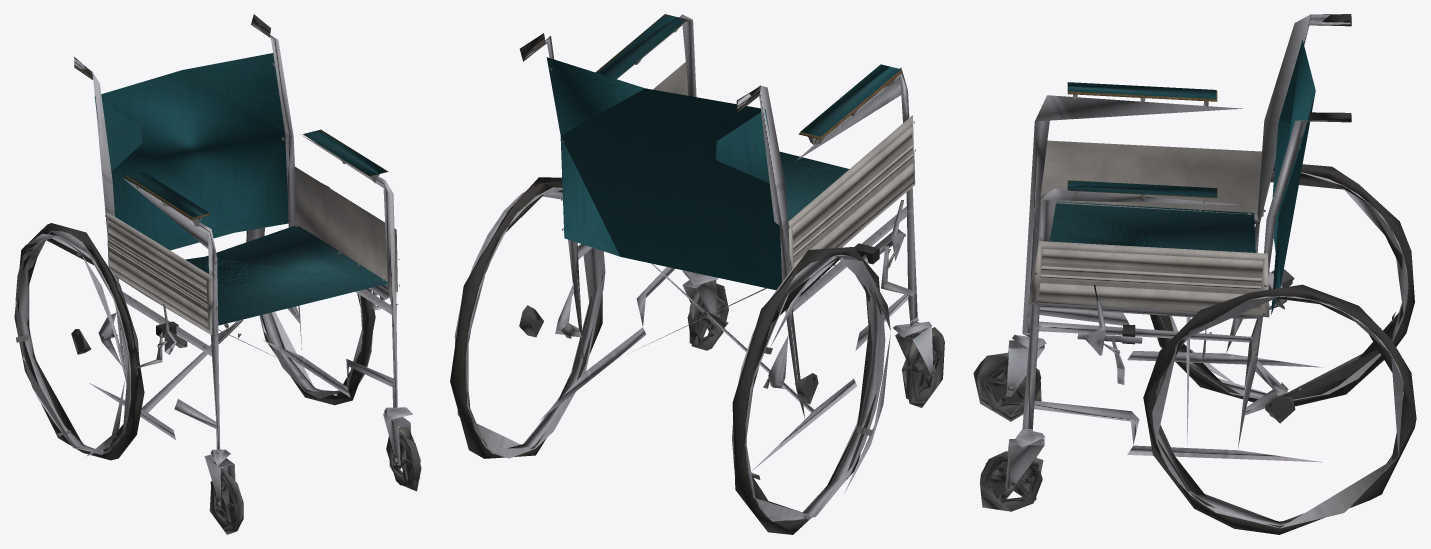
Rendered from wheelchair.glb.
The picture shows the model from 3 angles, left to right: view 1: azimuth 30°, elevation 25°; view 2: azimuth 150°, elevation 25°; view 3: azimuth 270°, elevation 25°; orthographic projection. The views are drawn at different scales.
Visible parts, largest first — view 1: wheelchair_01; view 2: wheelchair_01; view 3: wheelchair_01.
Part boxes in pixels (<box>): wheelchair_01: <box>14,14,421,534</box>; wheelchair_01: <box>450,14,944,534</box>; wheelchair_01: <box>973,14,1416,534</box>.
Size of the model in its own units: 0.8241 by 1.1 by 1.08.
Materials: 1 (1 with a texture image).
